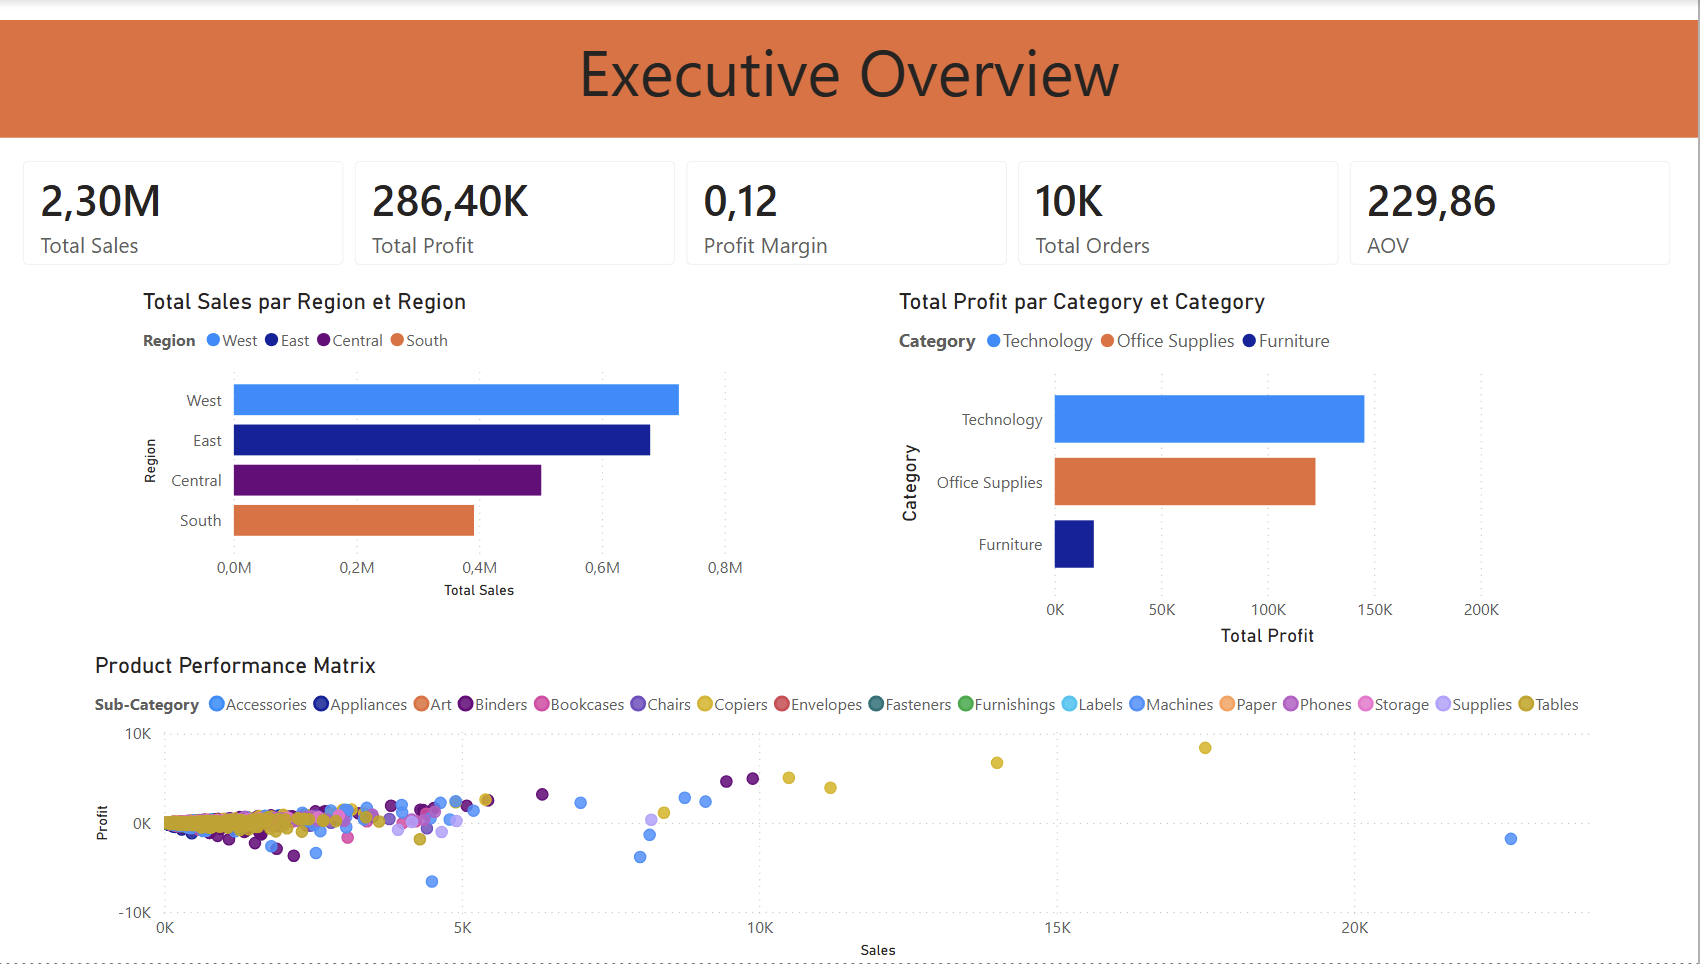

Layout of this report page (visuals, bound fields, positions):
{"tool":"powerbi","page":{"name":"Executive Overview","canvas":[1280,720],"ordinal":0},"visuals":[{"type":"cardVisual","fields":{"Data":["SampleSuperstore.Total Sales","SampleSuperstore.Total Profit","SampleSuperstore.Profit Margin","SampleSuperstore.Total Orders","SampleSuperstore.AOV"]},"box":[10.5,103.2,1269.5,112.1],"z":0},{"type":"textbox","box":[10.5,15,1269.5,88.2],"z":1000},{"type":"barChart","fields":{"Category":["SampleSuperstore.Region"],"Y":["SampleSuperstore.Total Sales"],"Series":["SampleSuperstore.Region"]},"box":[112.1,215.3,459.1,236.3],"z":2000},{"type":"barChart","fields":{"Category":["SampleSuperstore.Category"],"Y":["SampleSuperstore.Total Profit"],"Series":["SampleSuperstore.Category"]},"box":[677.4,215.3,459.1,272.1],"z":3000},{"type":"scatterChart","title":"Product Performance Matrix","fields":{"X":["SampleSuperstore.Sales"],"Y":["SampleSuperstore.Profit"],"Series":["SampleSuperstore.Sub-Category"]},"box":[76.3,487.5,1139.4,233.3],"z":4000}]}

Visuals, with their boxes in screenshot pixels (x1, y1, x2, y2), scaled from the page's 1280x720 canvas onto the 1700x964 screenshot:
cardVisual - SampleSuperstore.Total Sales x SampleSuperstore.Total Profit: bbox=[14, 138, 1699, 288]
textbox: bbox=[14, 20, 1699, 138]
barChart - SampleSuperstore.Region x SampleSuperstore.Total Sales: bbox=[149, 288, 759, 605]
barChart - SampleSuperstore.Category x SampleSuperstore.Total Profit: bbox=[900, 288, 1509, 653]
"Product Performance Matrix" scatterChart: bbox=[101, 653, 1615, 963]
